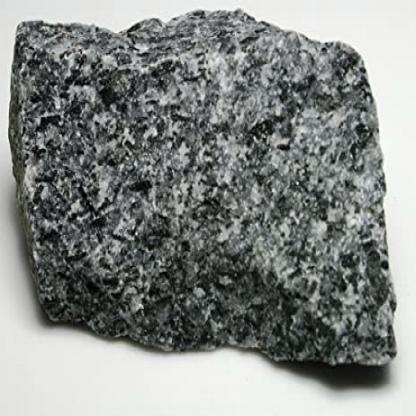Igneous_Diorite: (10, 5, 399, 383)
